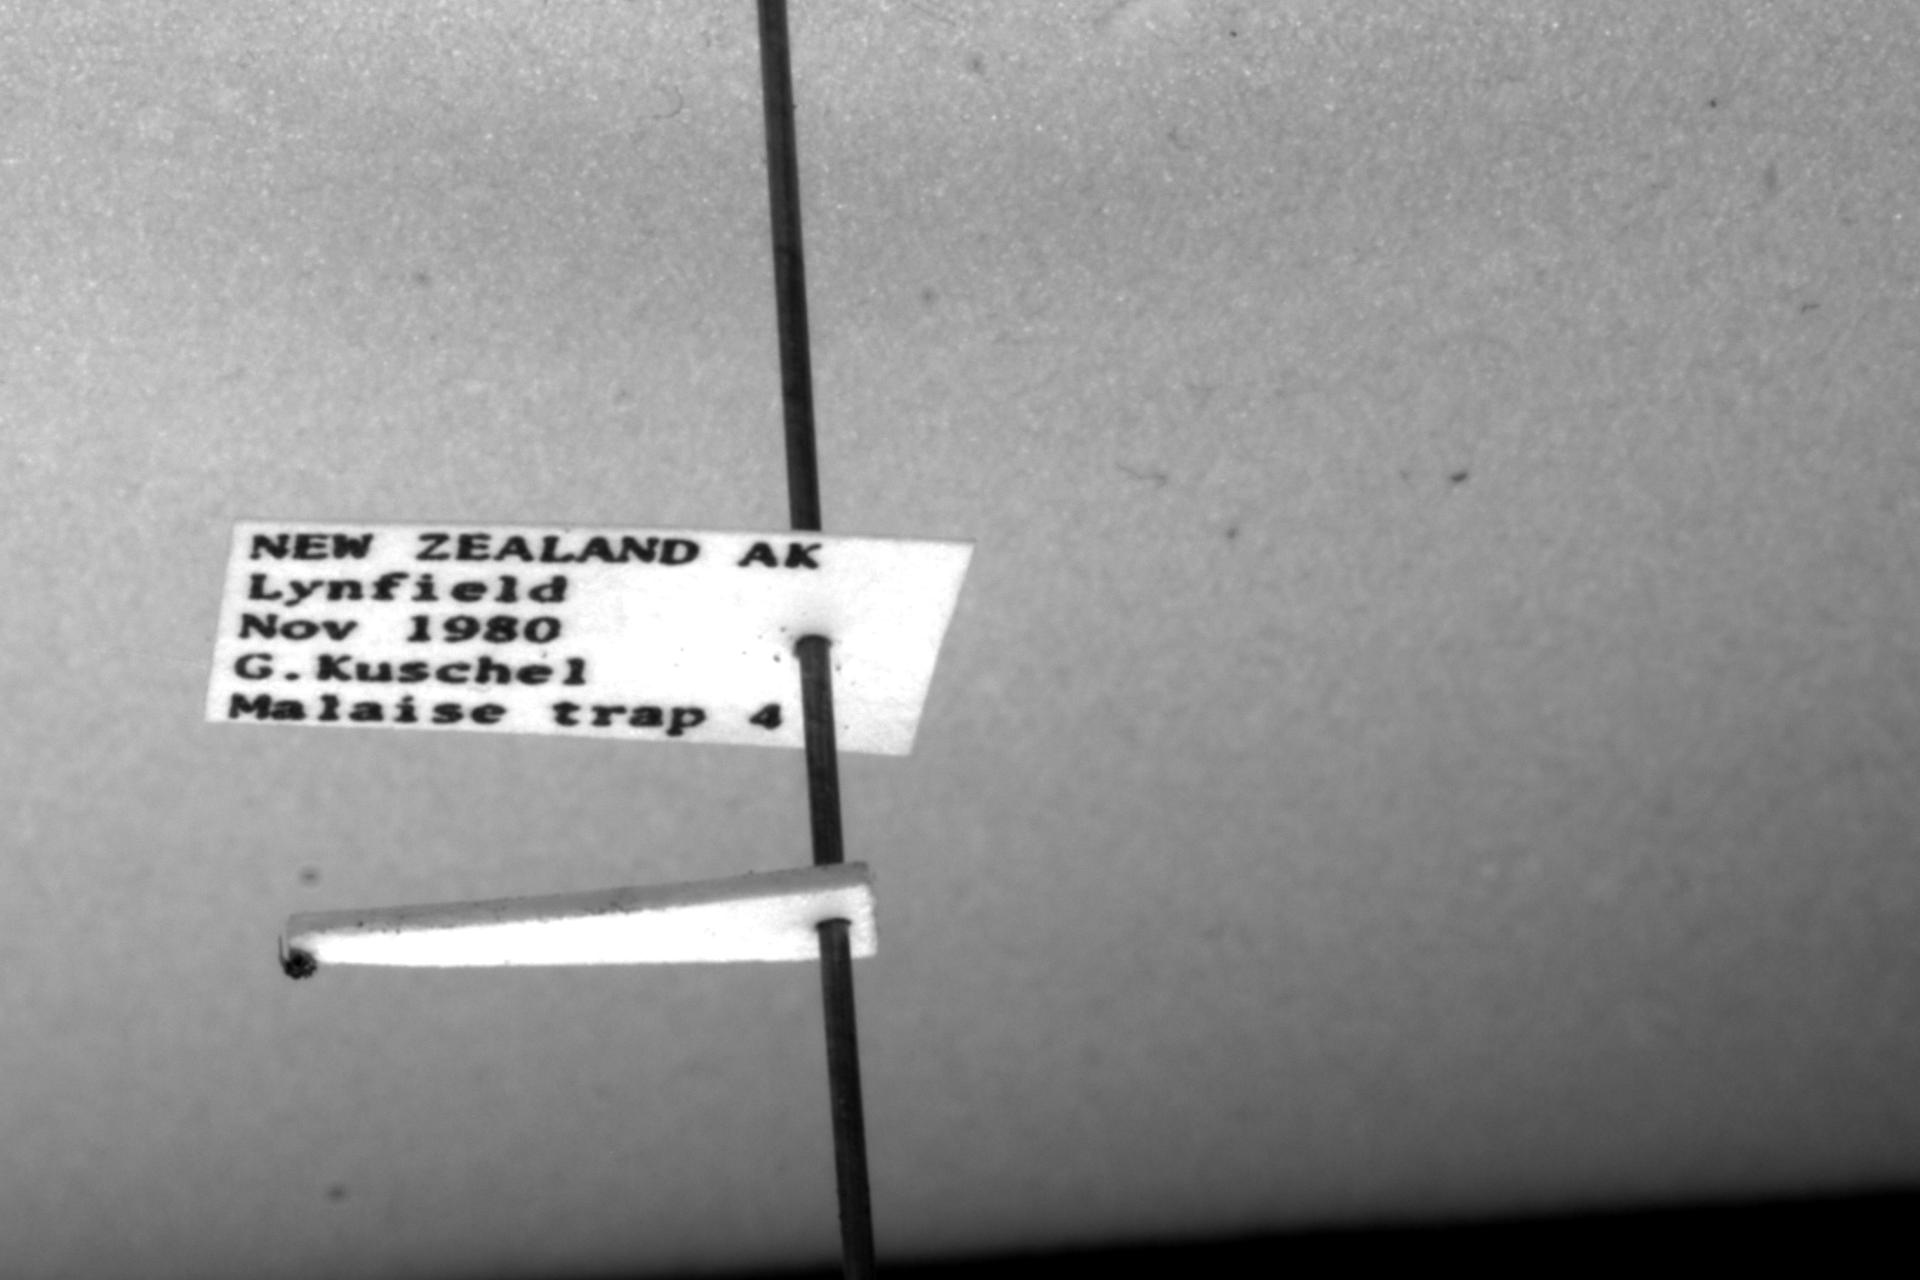typed_label: (206, 521, 971, 754)
